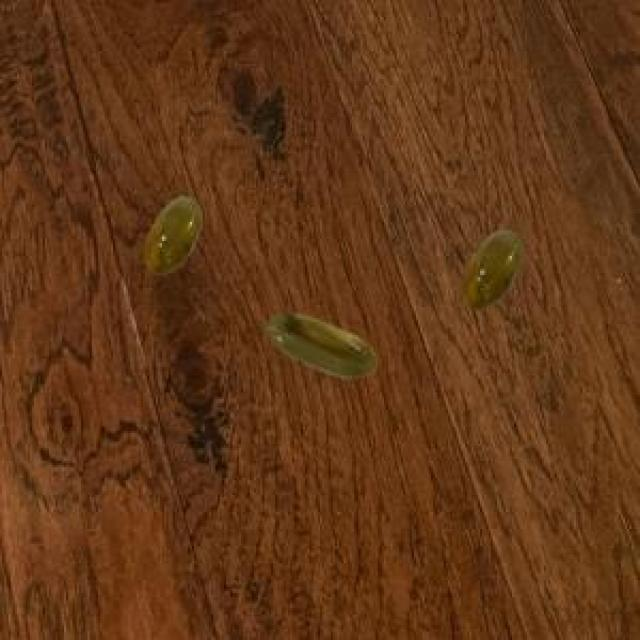Fish_Oil: (257, 292, 381, 400), (449, 205, 534, 331), (132, 183, 216, 288)
